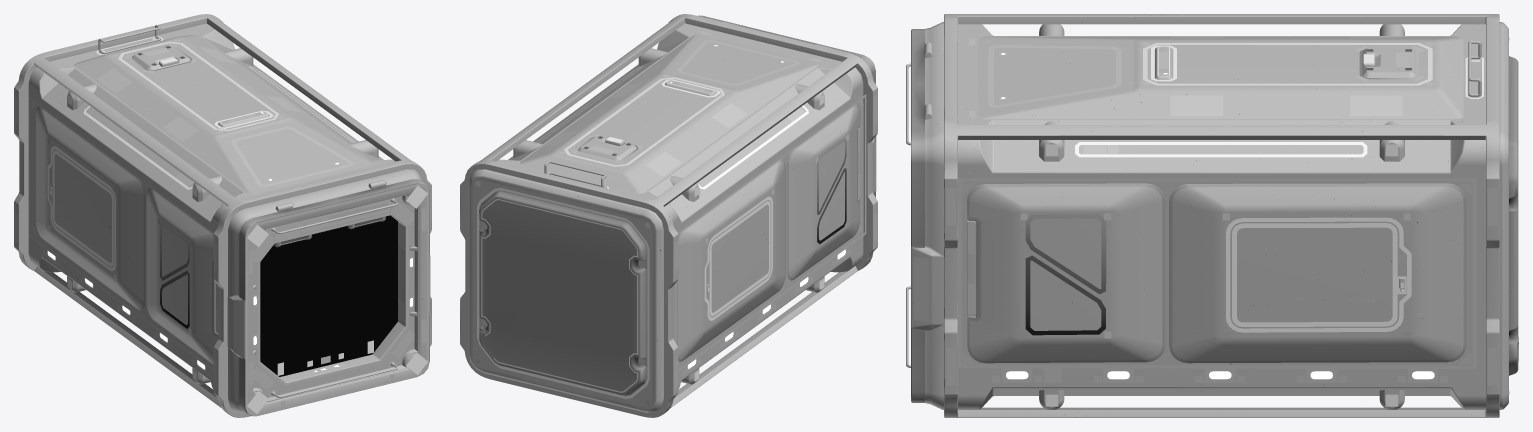
File: SM_CargoContainer_1_Merged.fbx
3 renders of one model, left to right at view 1: azimuth 30°, elevation 25°; view 2: azimuth 150°, elevation 25°; view 3: azimuth 270°, elevation 25°, orthographic. The views are drawn at different scales.
Visible parts, largest first — view 1: SM_CargoContainer_1_Merged_LOD0; view 2: SM_CargoContainer_1_Merged_LOD0; view 3: SM_CargoContainer_1_Merged_LOD0.
Part boxes in pixels (x1,y1,x2,y2): SM_CargoContainer_1_Merged_LOD0: (14,14,431,417); SM_CargoContainer_1_Merged_LOD0: (460,14,877,417); SM_CargoContainer_1_Merged_LOD0: (906,14,1518,417).
Size of the model in its own units: 330 by 603 by 329.
